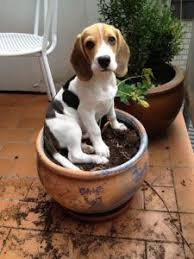dog_sitting: (43, 21, 128, 172)
